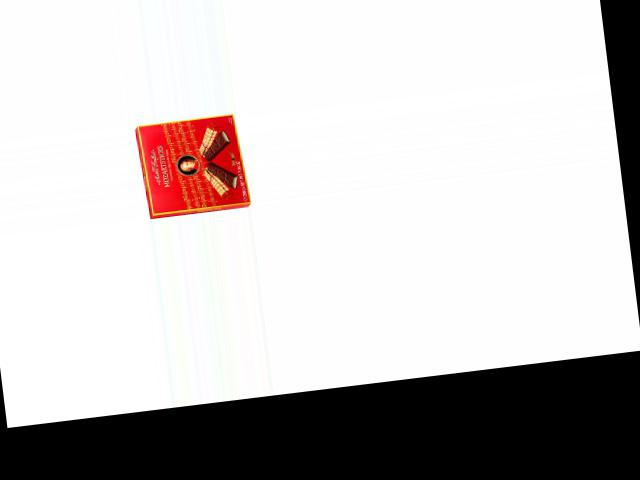chocolate: (136, 110, 254, 220)
